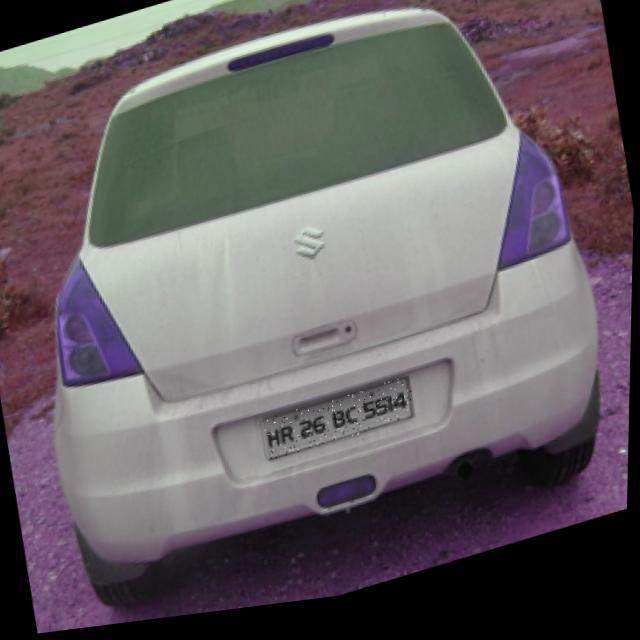license_plate: (264, 385, 418, 468)
